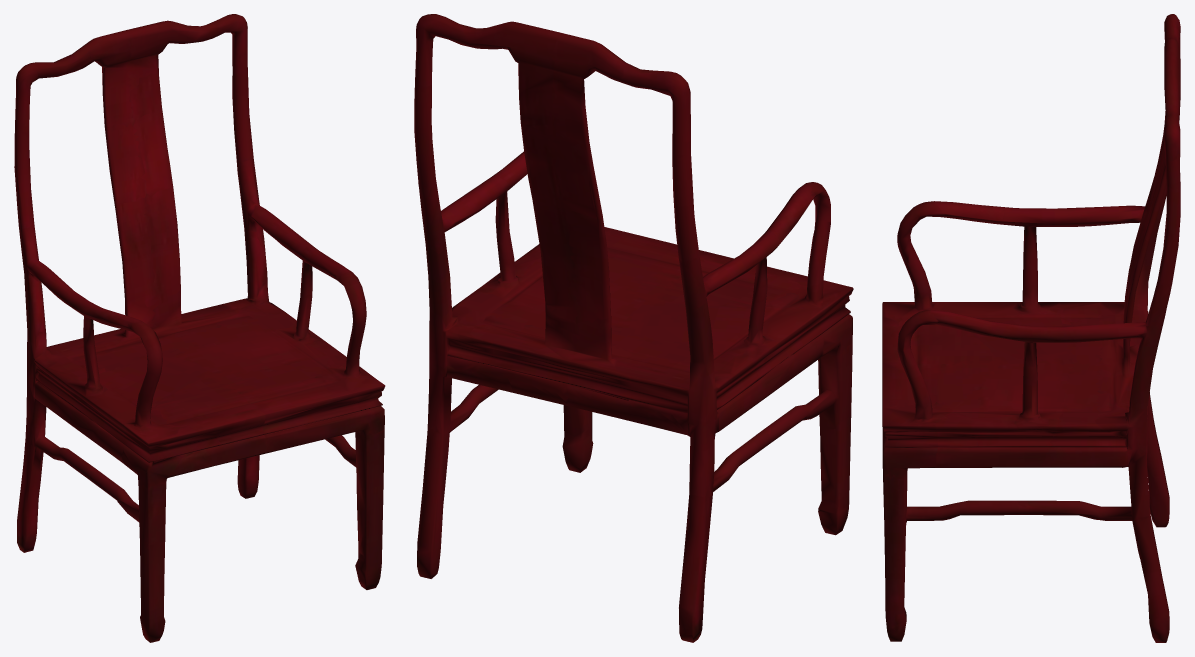
File: pr_chair_red.glb
3 views of the same model, side by side, from view 1: azimuth 30°, elevation 25°; view 2: azimuth 150°, elevation 25°; view 3: azimuth 270°, elevation 25° (orthographic). The views are drawn at different scales.
Bounding box in the file's own units: 0.9784 × 1.9 × 0.9775.
Materials: 1 (1 with a texture image).
